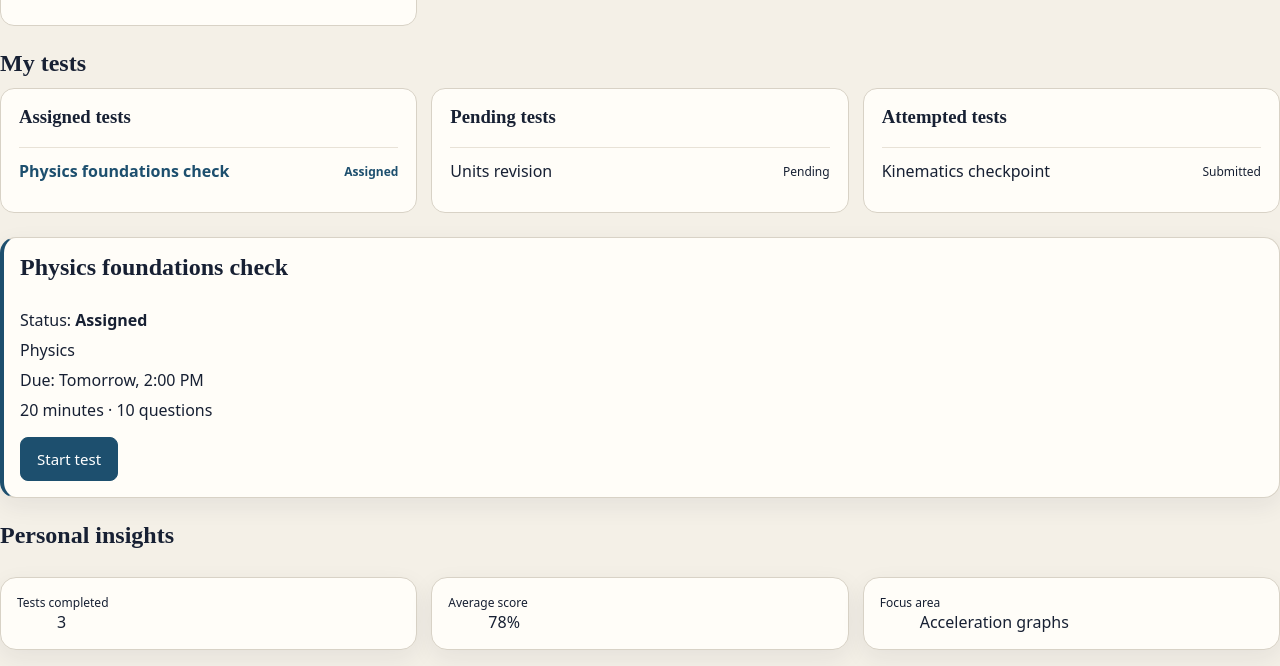
StudentDashboard › requires every answer and submits the learner's selected choices
(page scrolled)
Click the button "Start test" at (69, 459), box [20,437,118,481]
(page scrolled)
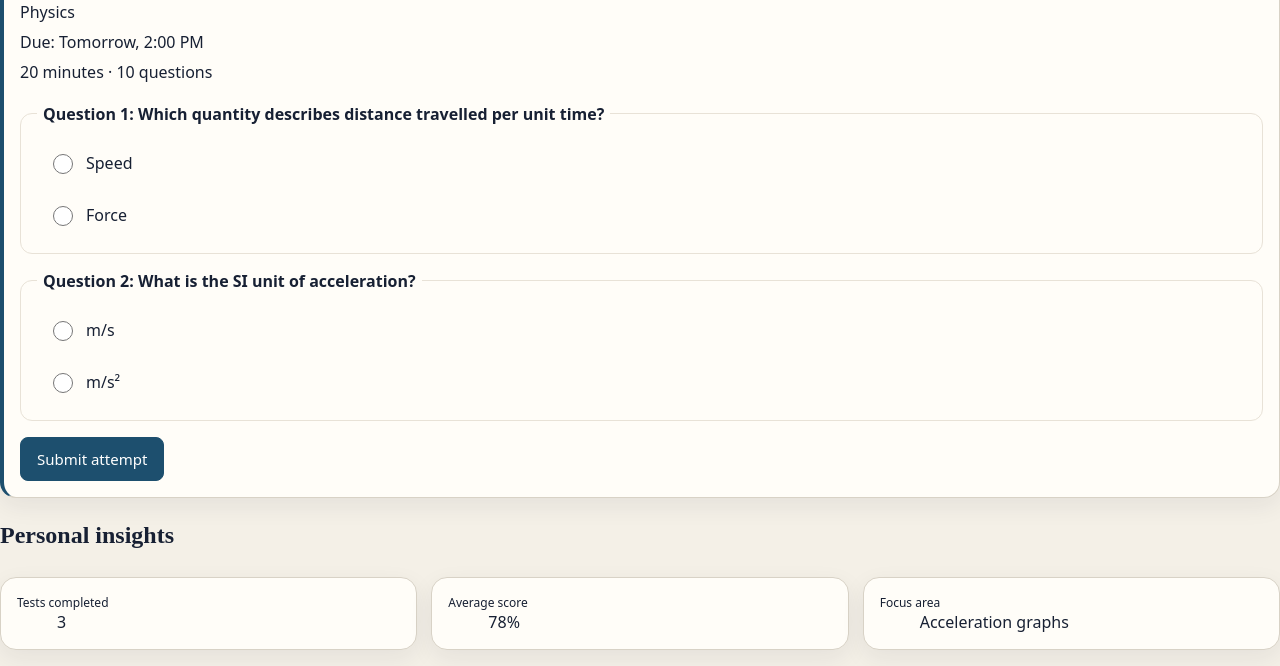
Expected: the button "Submit attempt" is shown
Expected: the element "Question 1: Which quantity describes distance travelled per unit time?" is shown, [20,103,1263,254]
Expected: the radio button labelled "Speed" is shown, [53,154,73,174]
Click the button "Submit attempt" at (92, 459), box [20,437,164,481]
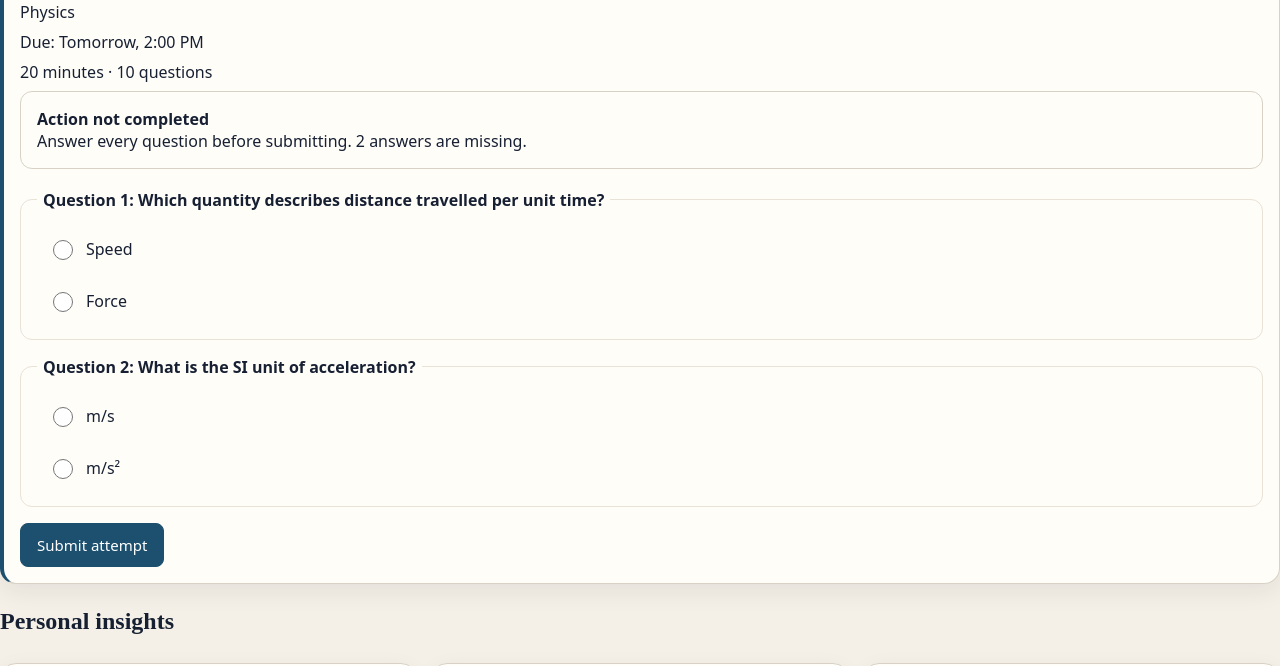
Expected: the message shows "Answer every question before submitting. 2 answers are missing.", [37,130,527,152]
Click the radio button labelled "Speed" at (63, 250), box [53,240,73,260]
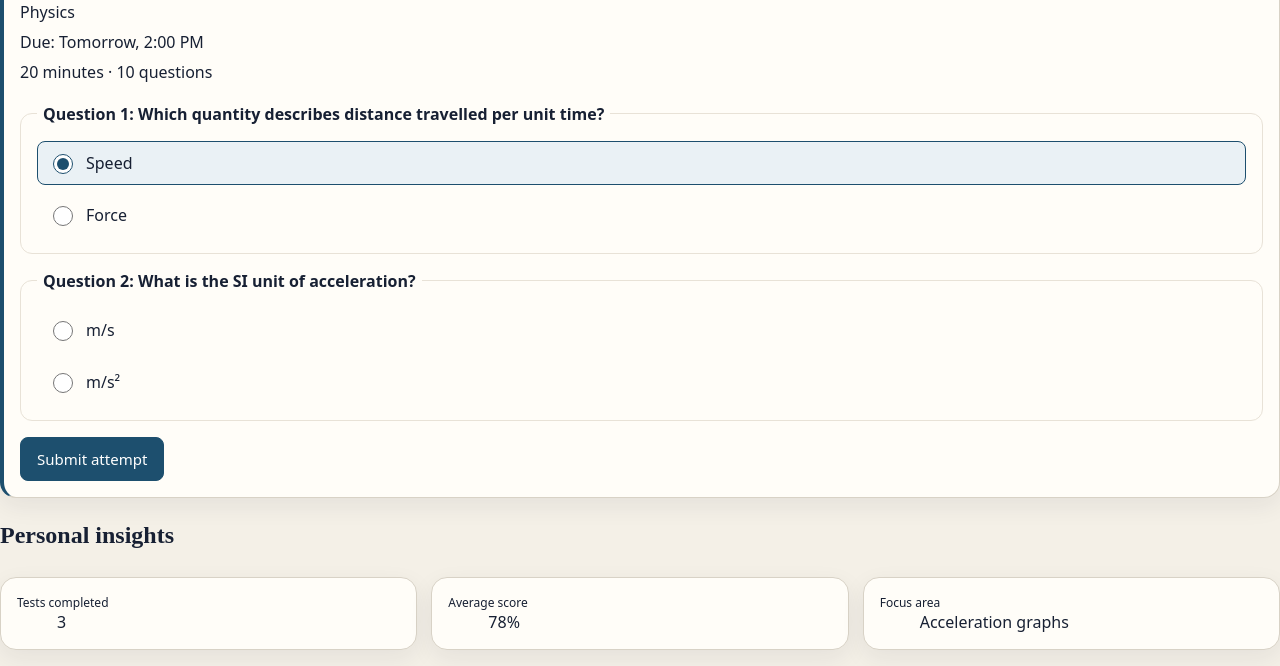
Click the radio button labelled "m/s²" at (63, 383), box [53,373,73,393]
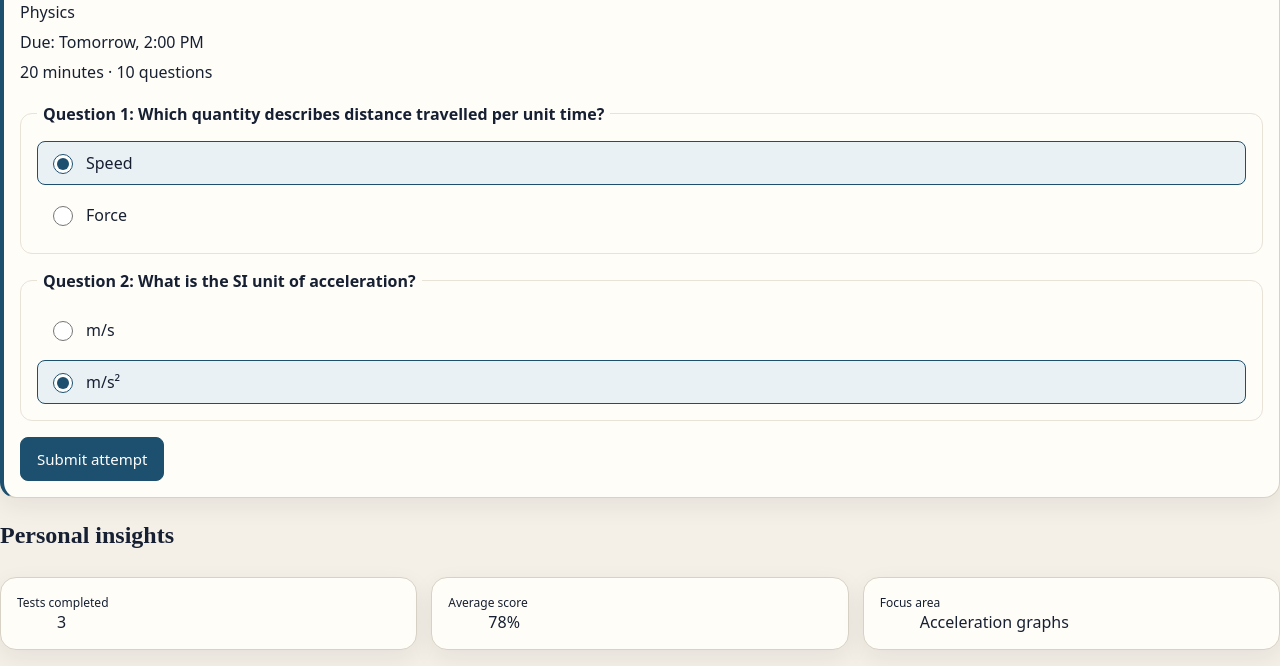
Click the button "Submit attempt" at (92, 459), box [20,437,164,481]
(page scrolled)
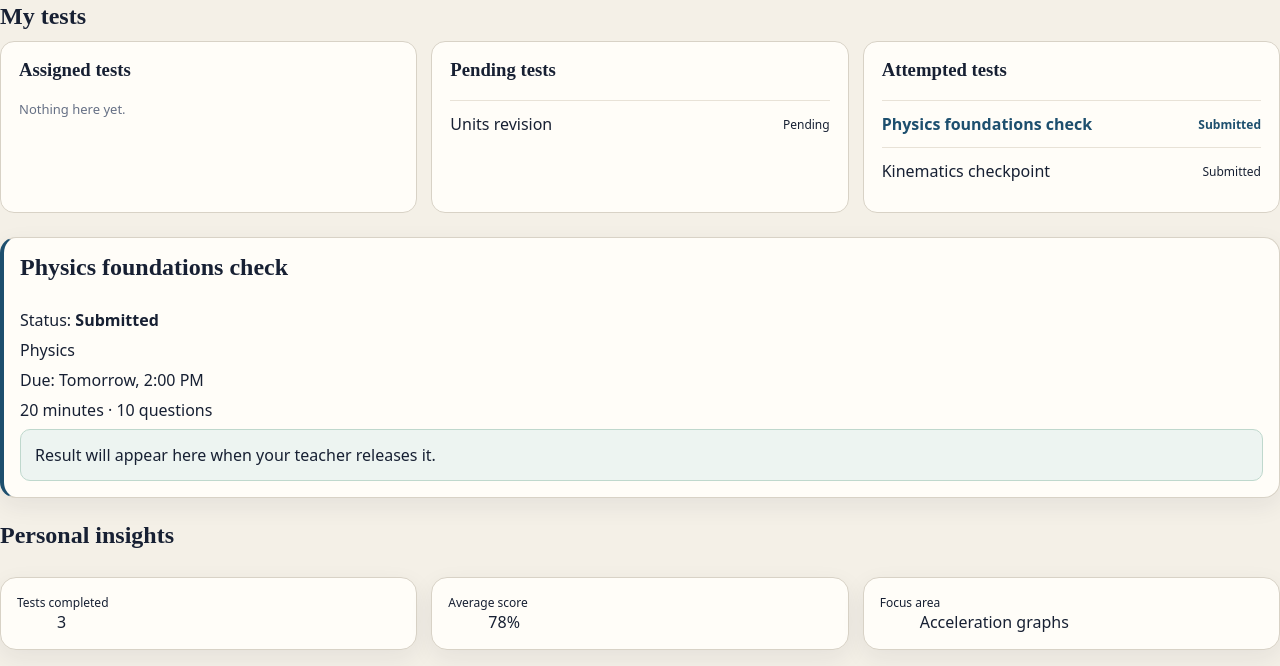
Expected: the 1st text "Submitted" is shown, [1198,116,1261,133]
Expected: the text "Result will appear here when your teacher releases it." is shown, [35,444,436,466]
